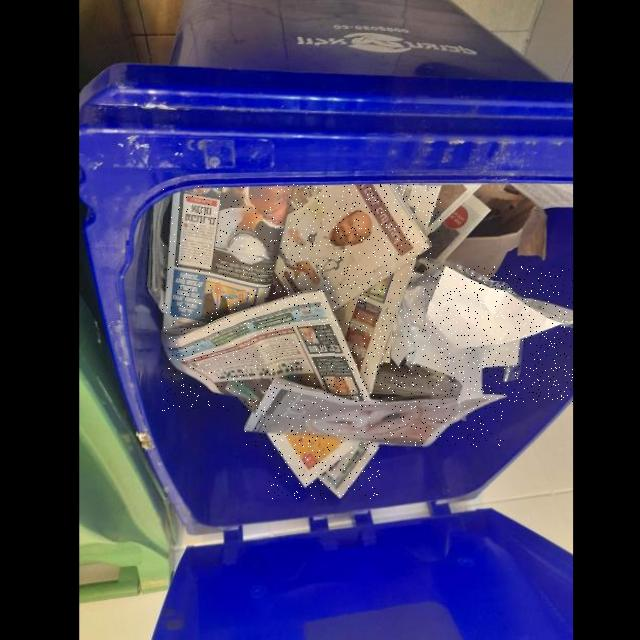paper: (161, 289, 368, 411), (412, 265, 573, 402), (268, 184, 431, 309), (164, 186, 294, 329), (244, 378, 505, 446), (335, 259, 416, 393), (268, 433, 381, 498), (397, 184, 441, 232)
